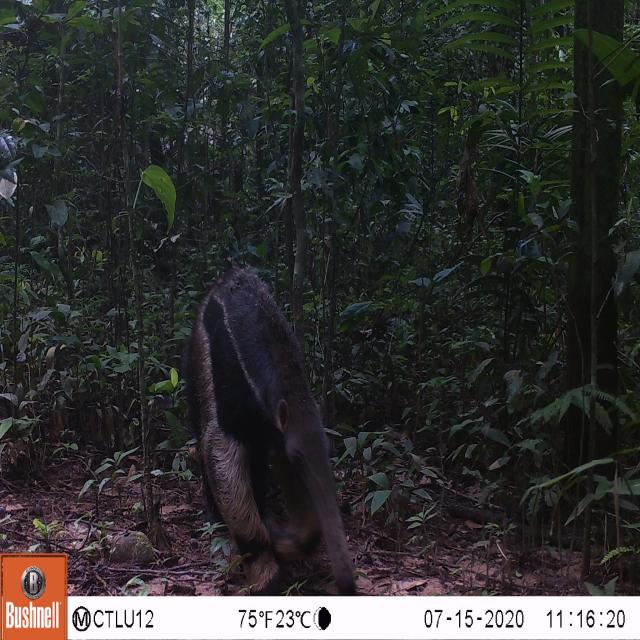Giant Anteater: (174, 262, 372, 592)
